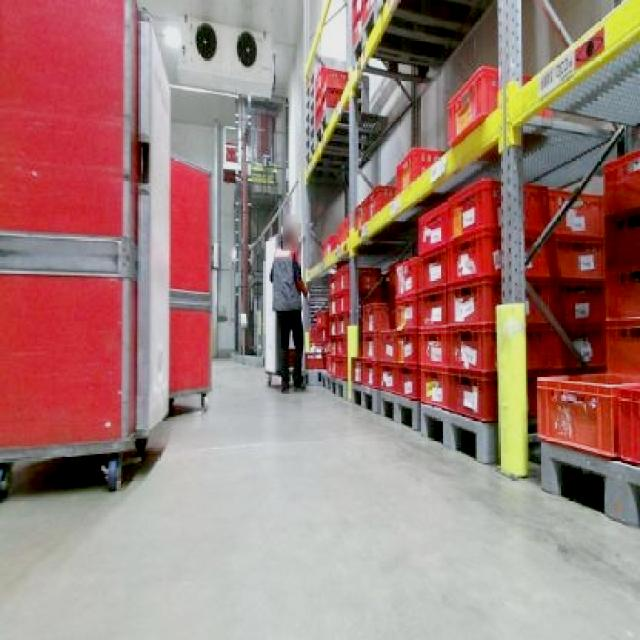floor: (0, 358, 637, 637)
pallets: (535, 372, 637, 455)
